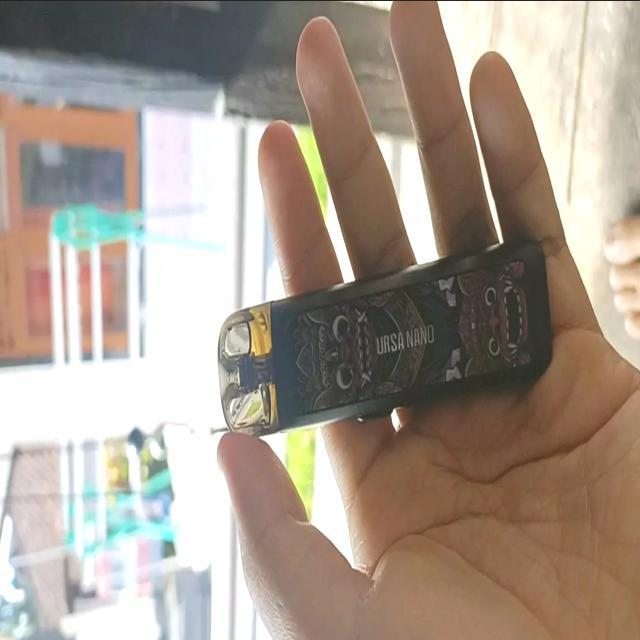Hazard: (214, 232, 553, 438)
